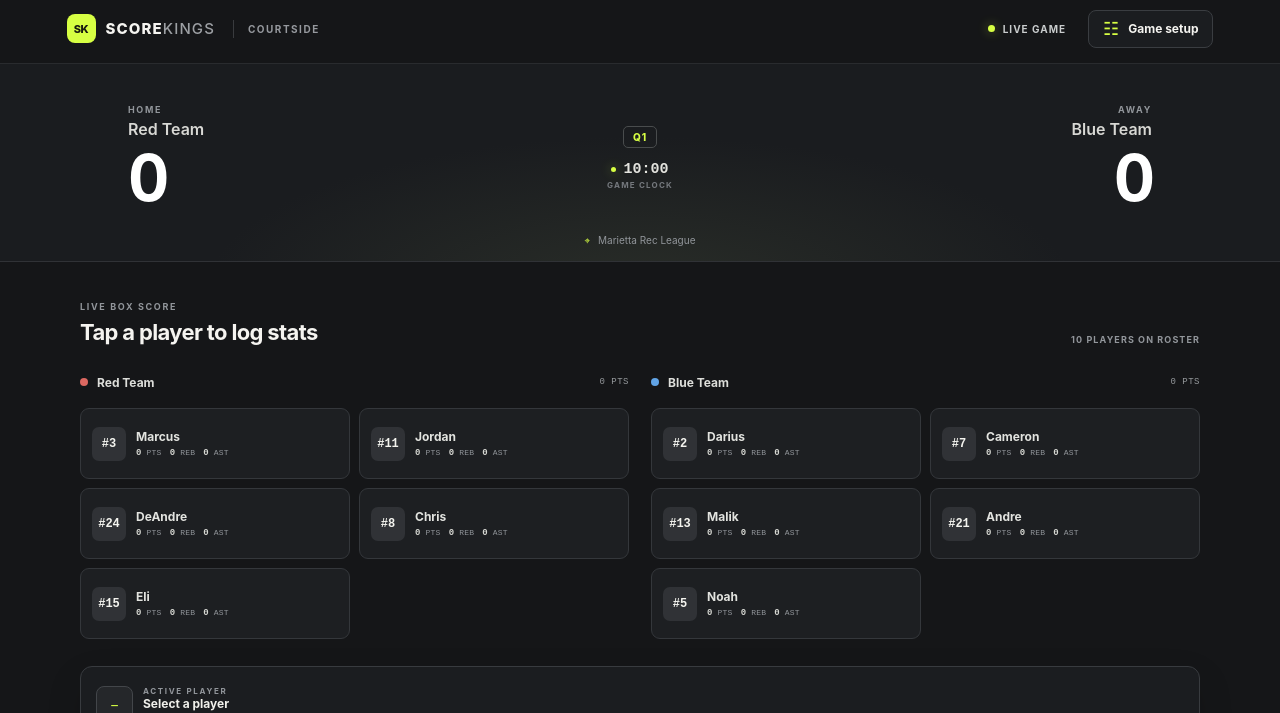
Test case: flyer image uploads › blocks finalization with inline messages for missing flyer assets
Step 1. Click the button "#3 Marcus 0 PTS 0 REB 0 AST" → coordinates (109, 444), box 80,408 -> 350,479
(page scrolled)
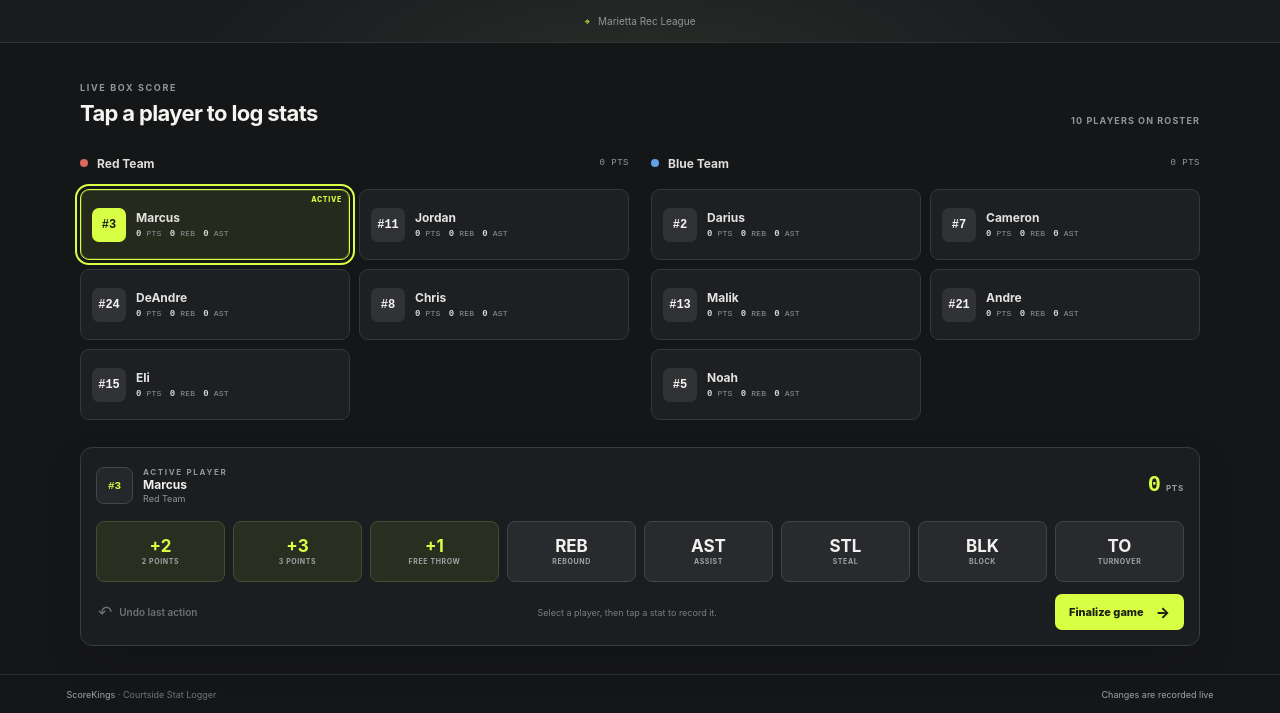
Step 2. Click the button "+2 2 POINTS" → coordinates (160, 552), box 96,521 -> 225,582
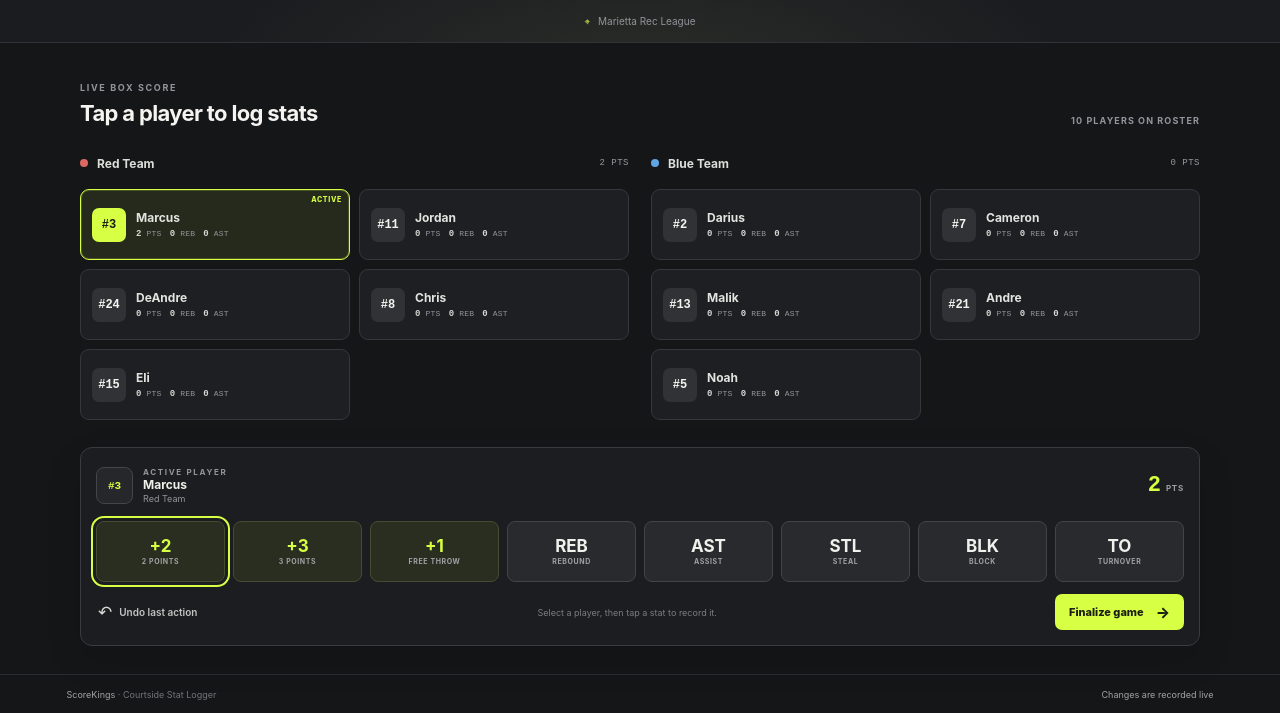
Step 3. Click the button "Finalize game →" → coordinates (1120, 612), box 1055,594 -> 1184,630
(page scrolled)
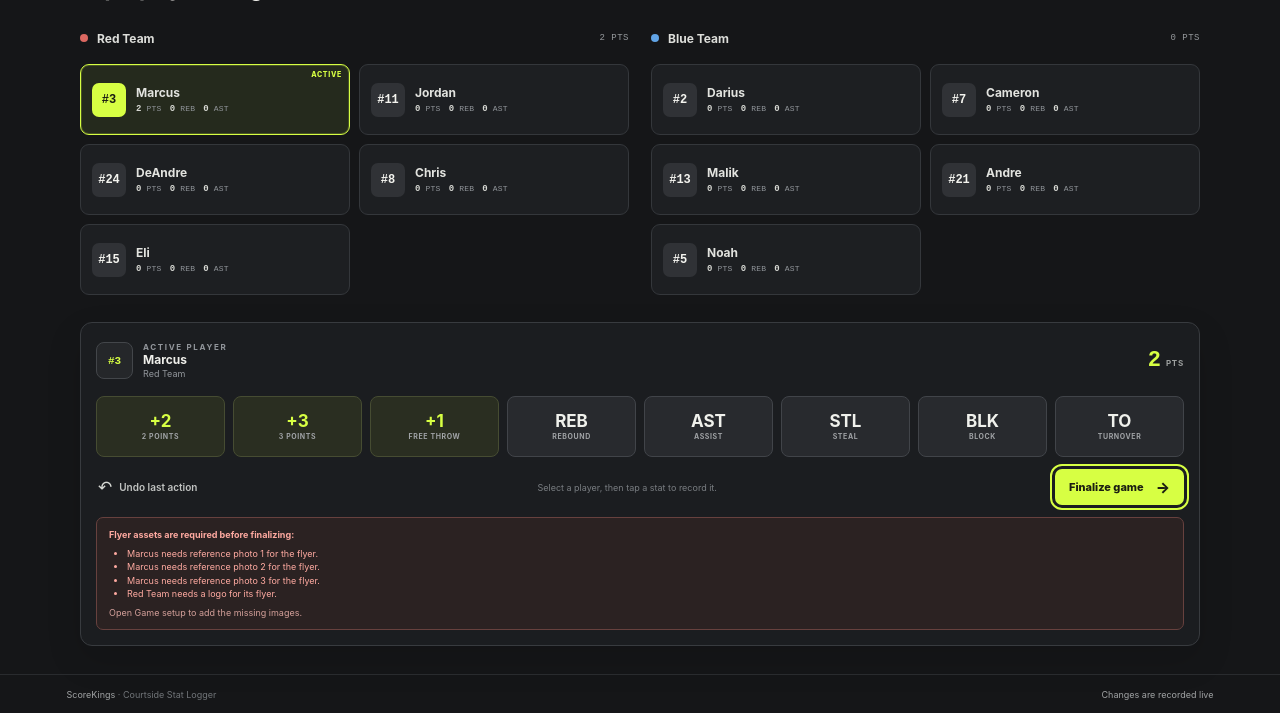
Expected: the list item "Marcus needs reference photo 1 for the flyer." is shown, 127,548 -> 318,558
Expected: the list item "Red Team needs a logo for its flyer." is shown, 127,588 -> 277,599
